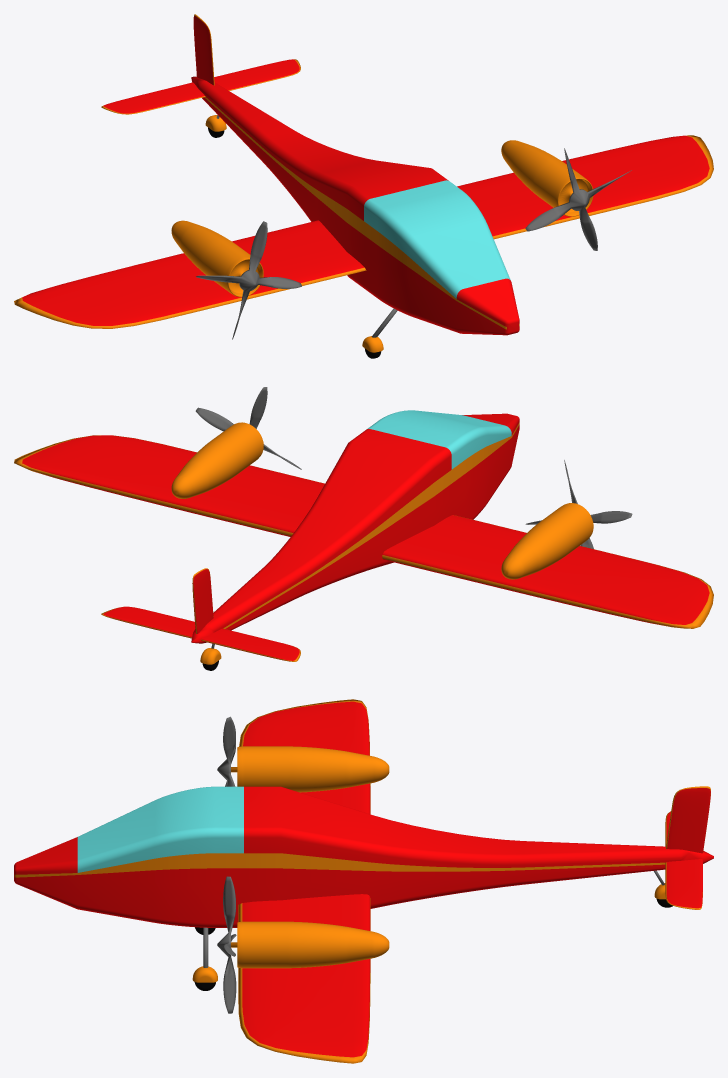
3 views of the same model, one above another, from view 1: azimuth 30°, elevation 25°; view 2: azimuth 150°, elevation 25°; view 3: azimuth 270°, elevation 25° (orthographic). The views are drawn at different scales.
Parts seen in each view (by area): view 1: Cube.005, Cube.015, Cube.042, Cube.051, Cube.052, Cube.013, Cube.044, Cube.043, Cube.041; view 2: Cube.005, Cube.015, Cube.042, Cube.051, Cube.052, Cube.013, Cube.041, Cube.043, Cube.044; view 3: Cube.005, Cube.042, Cube.015, Cube.051, Cube.052, Cube.041, Cube.013, Cube.043, Cube.044.
Boxes of the visible parts, box(x1,y1,x2,y2) form: Cube.005: box(191, 76, 519, 335); Cube.015: box(14, 220, 366, 328); Cube.042: box(457, 135, 713, 239); Cube.051: box(501, 140, 593, 216); Cube.052: box(171, 220, 263, 297); Cube.013: box(101, 59, 300, 114); Cube.044: box(196, 221, 301, 339); Cube.043: box(525, 148, 631, 250); Cube.041: box(193, 14, 214, 85); Cube.005: box(191, 410, 519, 643); Cube.015: box(382, 515, 713, 628); Cube.042: box(14, 435, 324, 536); Cube.051: box(171, 422, 263, 498); Cube.052: box(501, 503, 593, 579); Cube.013: box(101, 606, 300, 661); Cube.041: box(192, 568, 213, 633); Cube.043: box(195, 387, 301, 469); Cube.044: box(525, 460, 632, 548); Cube.005: box(14, 786, 713, 927); Cube.042: box(238, 894, 370, 1063); Cube.015: box(239, 699, 370, 814); Cube.051: box(231, 921, 389, 968); Cube.052: box(231, 746, 389, 792); Cube.041: box(666, 786, 710, 853); Cube.013: box(665, 811, 702, 909); Cube.043: box(217, 876, 236, 1013); Cube.044: box(217, 716, 235, 786).
Bounding box in the file's own units: 2493 × 562 × 2024.
